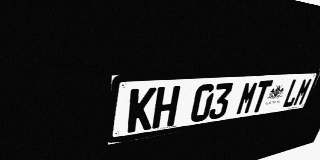0: (189, 84, 216, 123)
3: (208, 83, 234, 120)
H: (152, 86, 181, 129)
K: (127, 87, 157, 133)
L: (281, 78, 303, 108)
M: (235, 81, 260, 116), (292, 78, 313, 107)
T: (249, 80, 273, 113)
